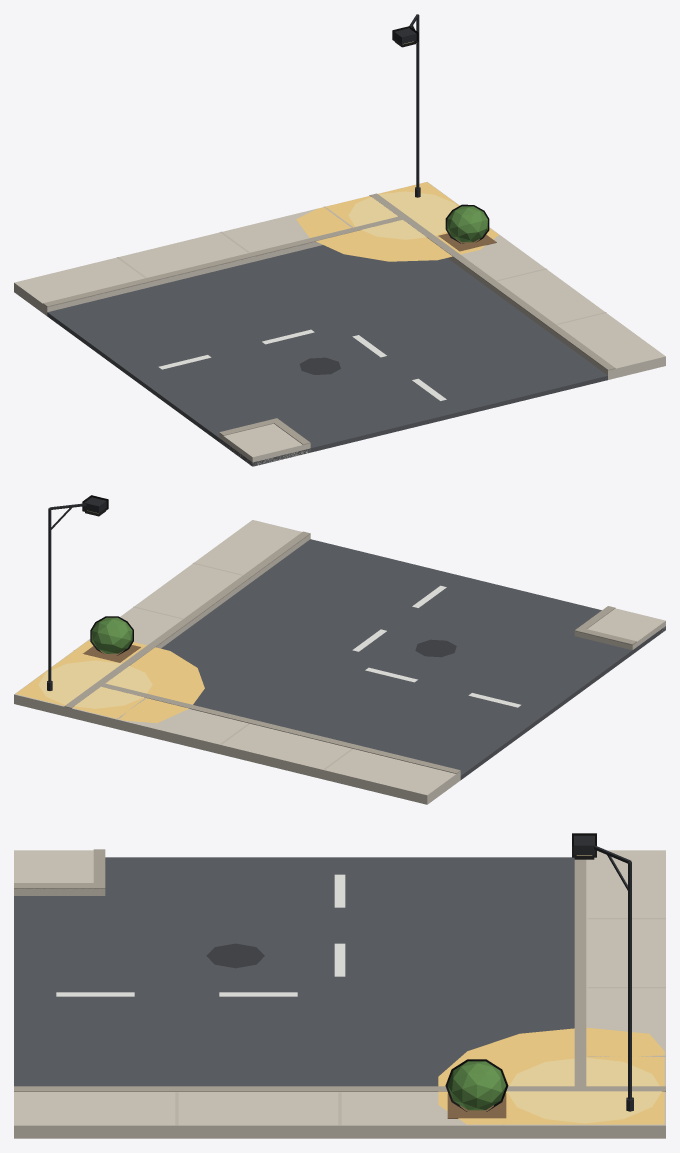
Rendered from Yol_corner_01.fbx.
3 renders of one model, top to bottom at view 1: azimuth 30°, elevation 25°; view 2: azimuth 150°, elevation 25°; view 3: azimuth 270°, elevation 25°, orthographic. The views are drawn at different scales.
Parts seen in each view (by area): view 1: Yol_corner_01; view 2: Yol_corner_01; view 3: Yol_corner_01.
Part boxes in pixels (x1,y1,x2,y2): Yol_corner_01: (14,14,665,466); Yol_corner_01: (14,495,665,804); Yol_corner_01: (14,833,665,1138).
Bounding box in the file's own units: 10 × 4.49 × 10.
